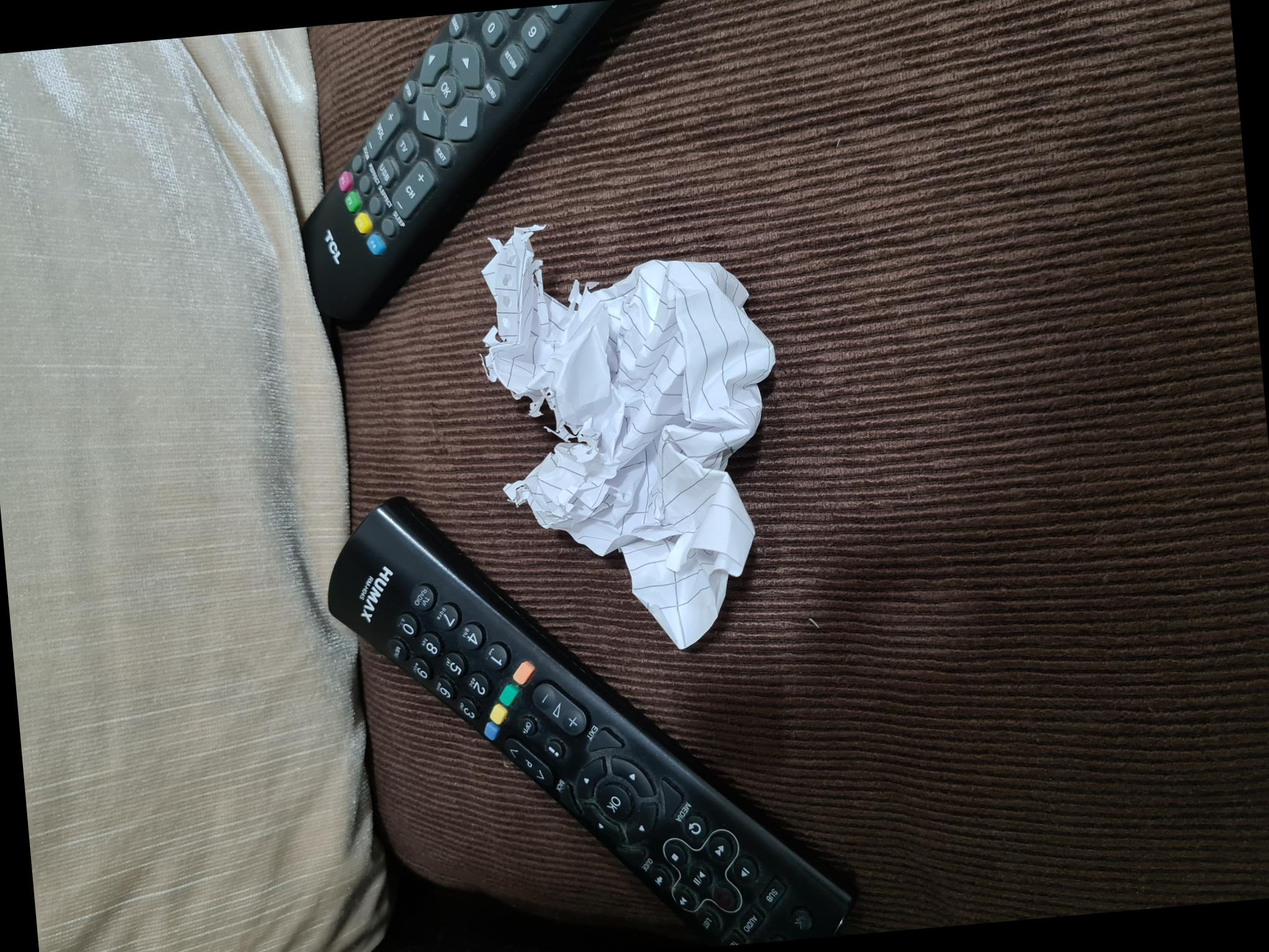Kertas: (305, 489, 747, 795)
